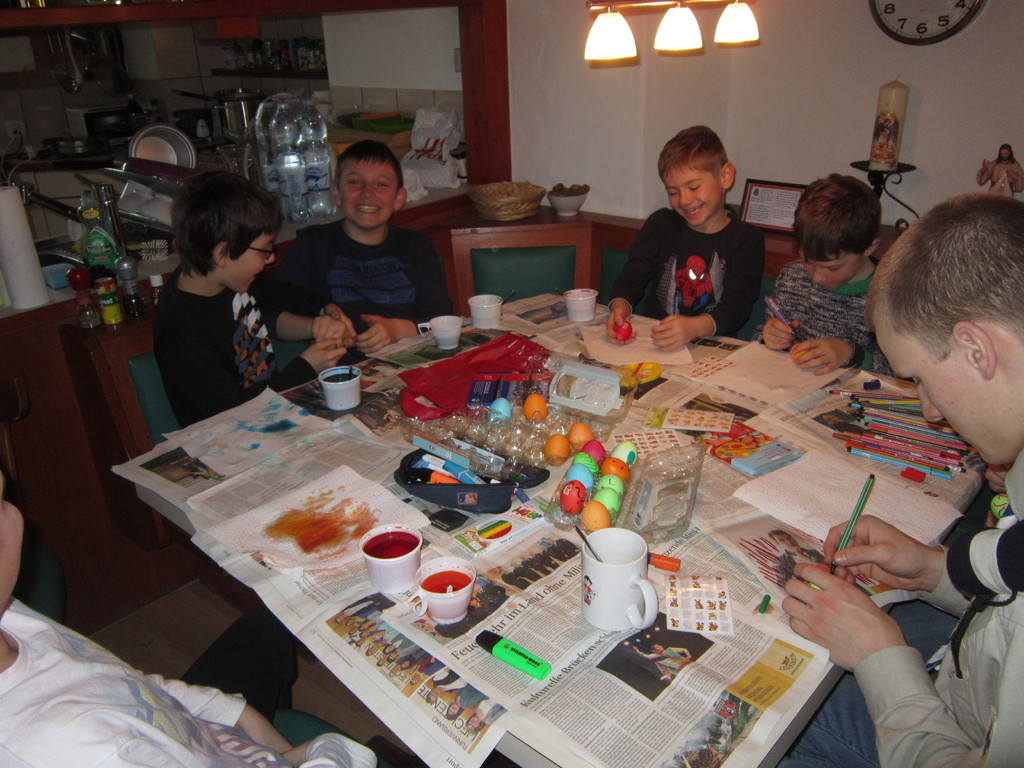Cabinetry: (0, 195, 472, 642), (445, 205, 603, 319)
